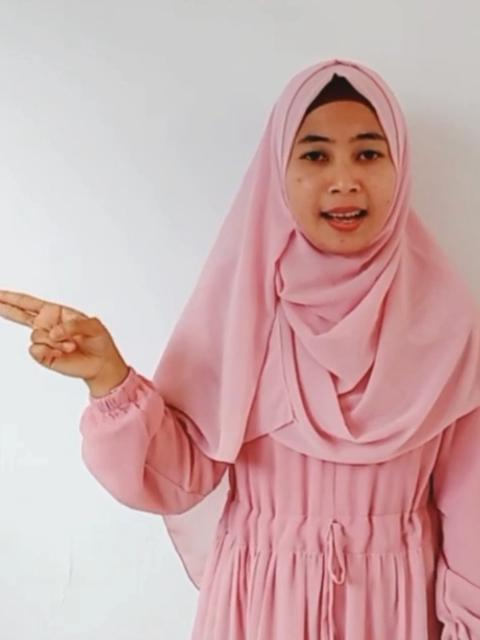H: (0, 286, 118, 382)
